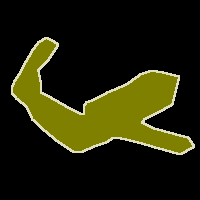tie: (12, 37, 194, 154)
